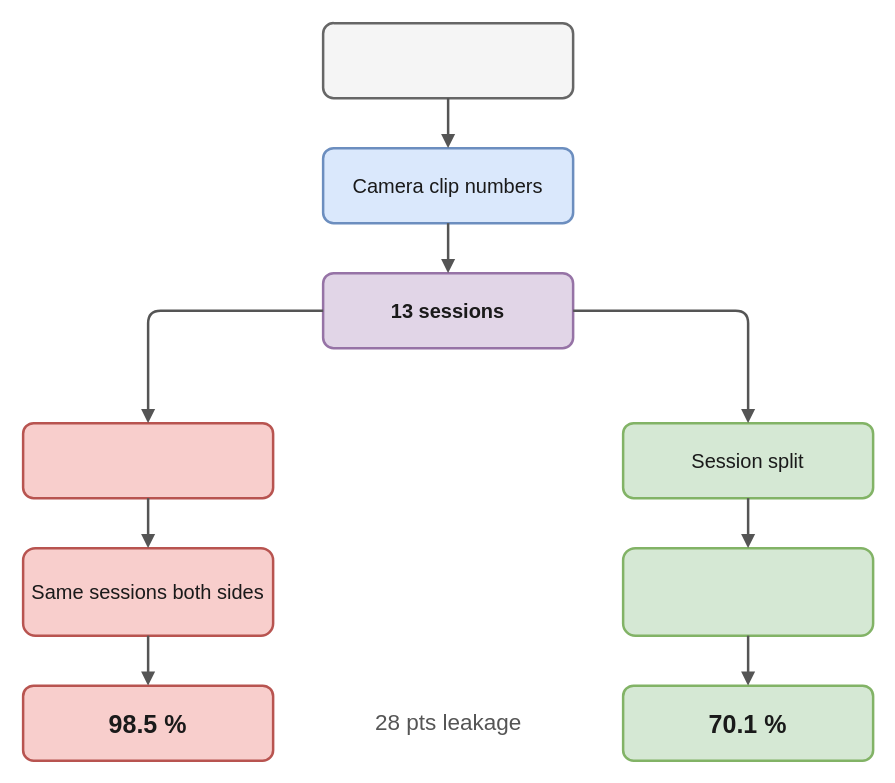
Some shapes in this 895 by 783 pixel diagram are drawn without their labels. The shapes that lost their labels are listed below. From the top down, each one's centre as x and y in pixels, then its label:
At (447,60): "INCLUDE clips".
At (147,460): "Random split".
At (747,591): "Test sessions unseen".
